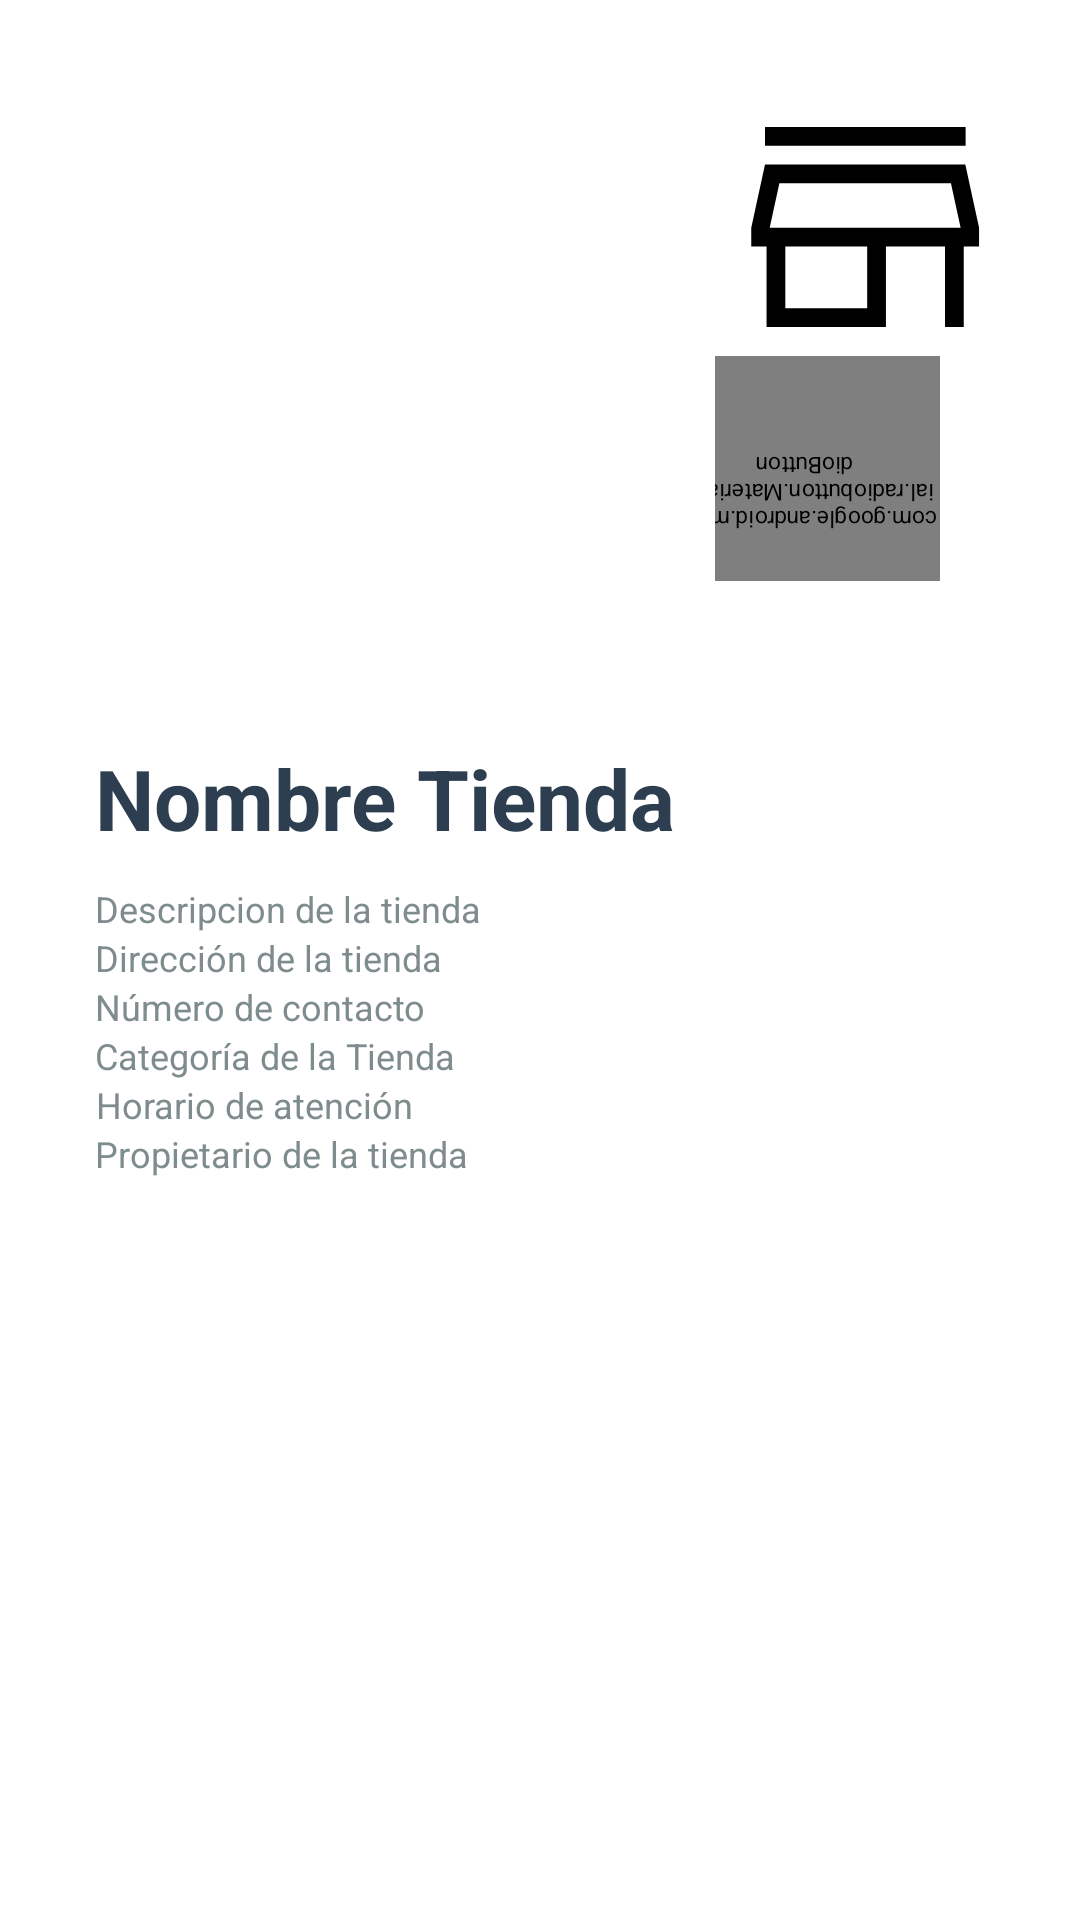

Screen size 1080×1920. Icon name, then its box in pixels as (x1, y1, x2, y2):
Tienda: (751, 127, 979, 327)
